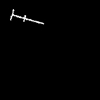double_crochet: (10, 10, 43, 23)
